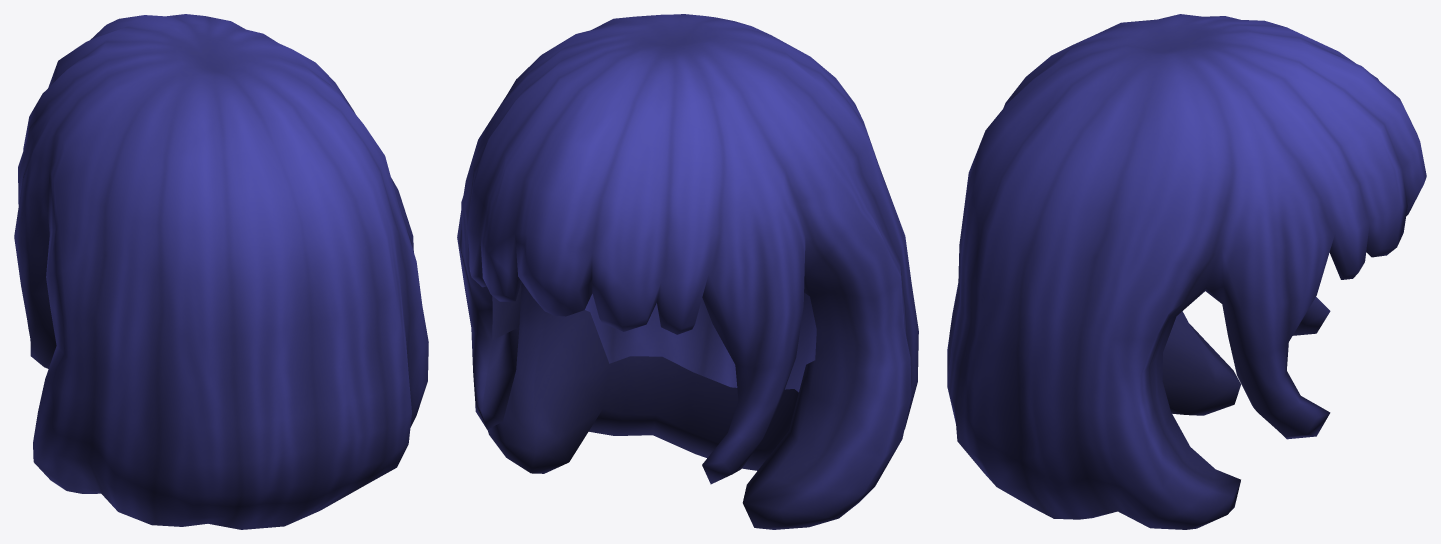
The model's file is Hair_Female_001_textured_blue.glb.
3 views of the same model, side by side, from view 1: azimuth 30°, elevation 25°; view 2: azimuth 150°, elevation 25°; view 3: azimuth 270°, elevation 25° (orthographic). The views are drawn at different scales.
Visible parts, largest first — view 1: Hair_Female_001; view 2: Hair_Female_001; view 3: Hair_Female_001.
Part boxes in pixels (box(x1,y1,x2,y2)): Hair_Female_001: box(14, 14, 428, 529); Hair_Female_001: box(457, 14, 918, 529); Hair_Female_001: box(947, 14, 1426, 529).
Bounding box in the file's own units: 0.2205 × 0.2446 × 0.236.
1 material, 1 textured.
